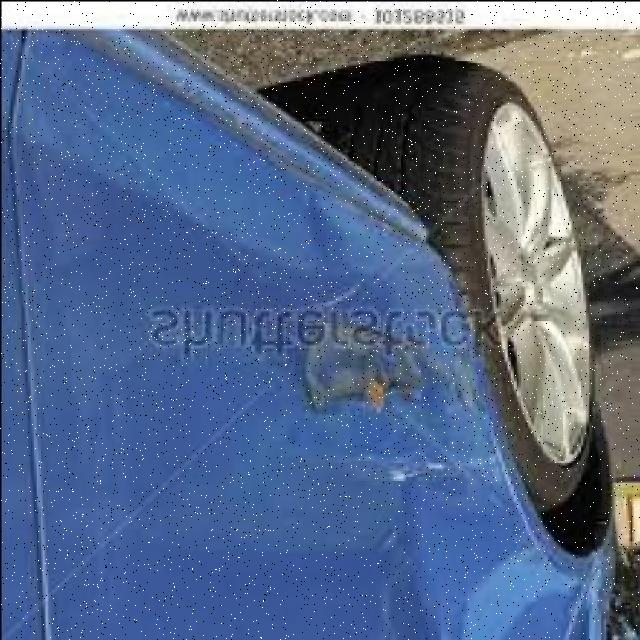damage: (186, 64, 494, 447), (337, 452, 519, 640)
